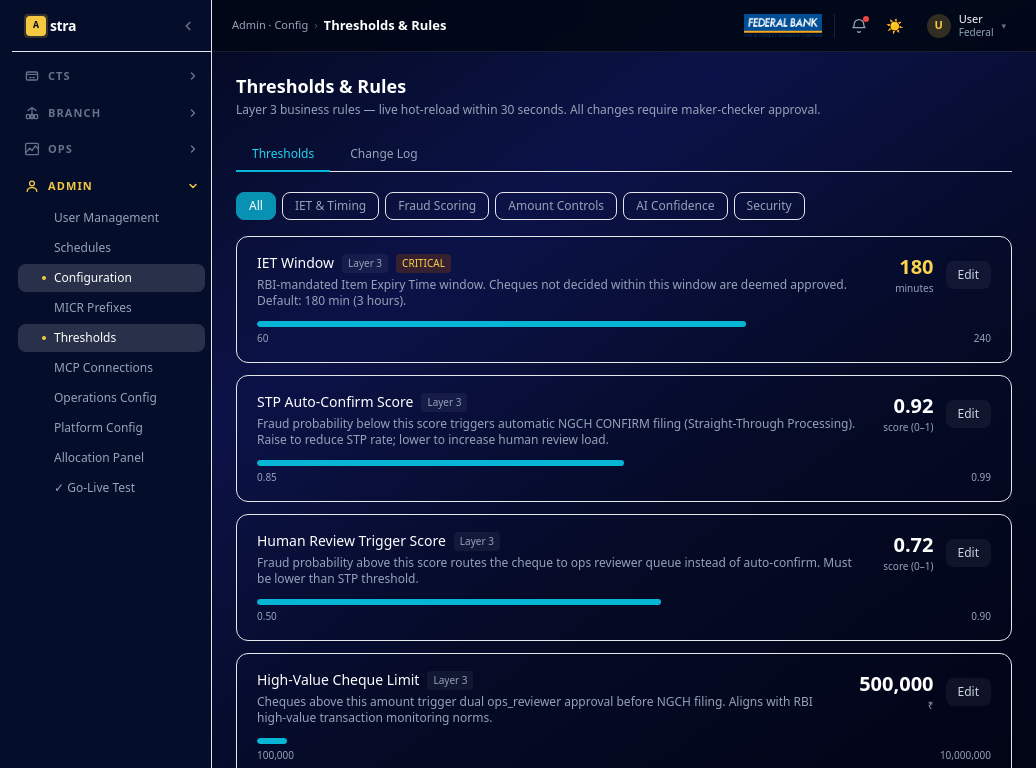
CTSThresholds › category filters work
Click the button "Fraud Scoring" at {"x": 437, "y": 206}, box [385,192,489,220]
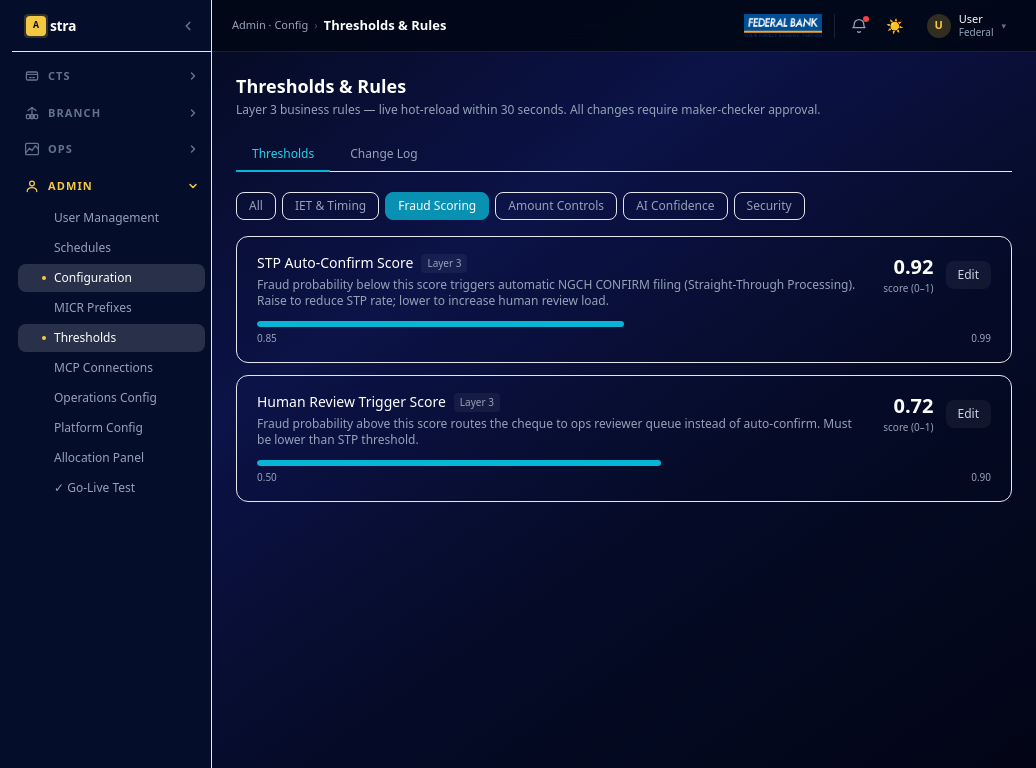
Expected: the text "STP Auto-Confirm Score" is shown, [257,253,413,273]
Expected: the text "IET Window" is gone
